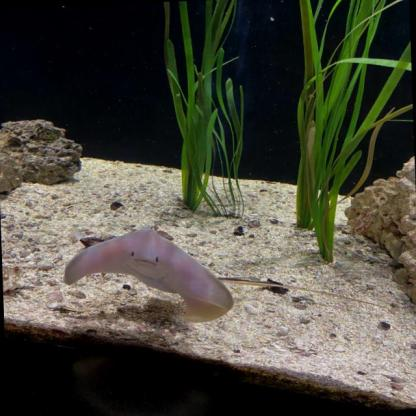stingray: (62, 224, 234, 326)
